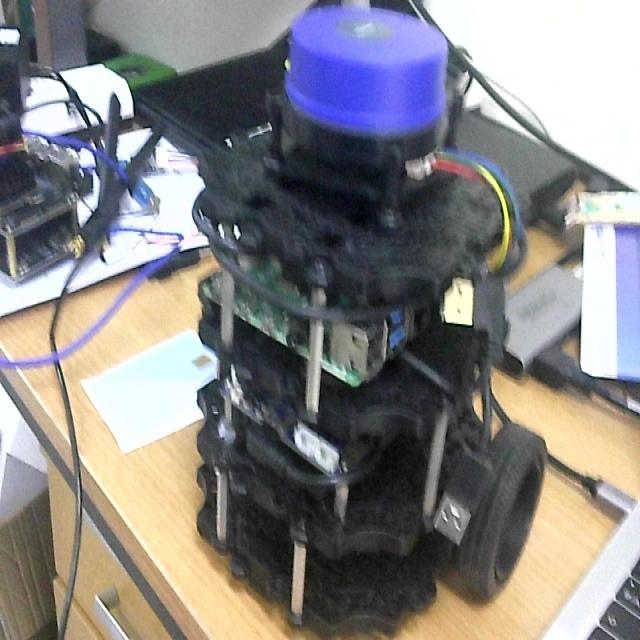turtle: (189, 4, 552, 640)
